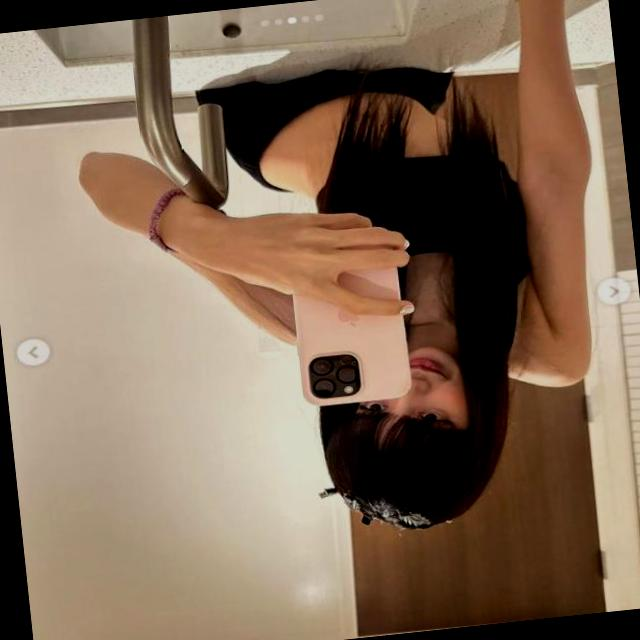lens_back: (306, 351, 336, 377), (312, 374, 338, 402), (333, 361, 359, 387)
phone: (282, 240, 412, 410)
